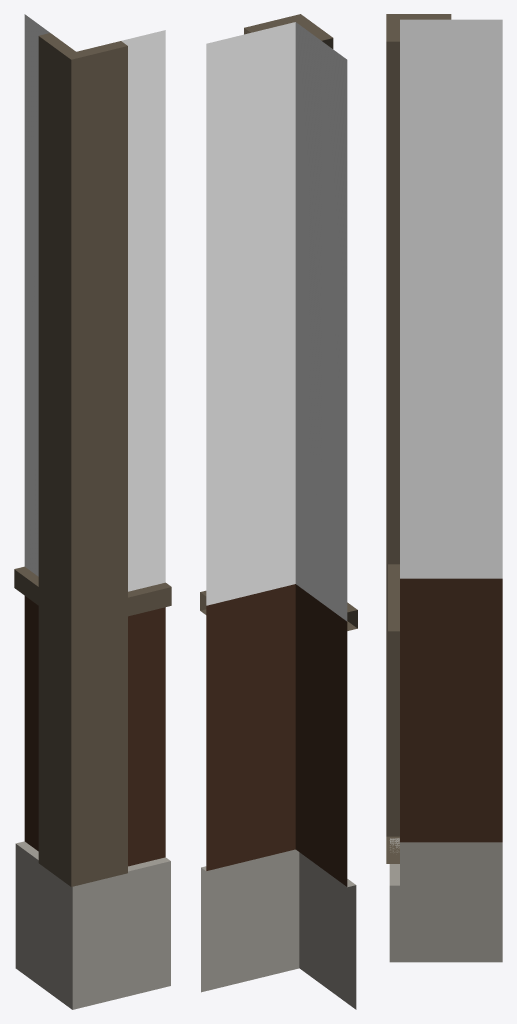
The picture shows the model from 3 angles, left to right: view 1: azimuth 30°, elevation 25°; view 2: azimuth 210°, elevation 25°; view 3: azimuth 270°, elevation 25°; orthographic projection.
Parts seen in each view (by area): view 1: a2015/800/base-c1; view 2: a2015/800/base-c1; view 3: a2015/800/base-c1.
Part boxes in pixels (box(x1,y1,x2,y2)): a2015/800/base-c1: box(14, 14, 171, 1009); a2015/800/base-c1: box(200, 14, 357, 1009); a2015/800/base-c1: box(386, 14, 502, 962).
Size of the model in its own units: 0.34 by 3.05 by 0.34.
